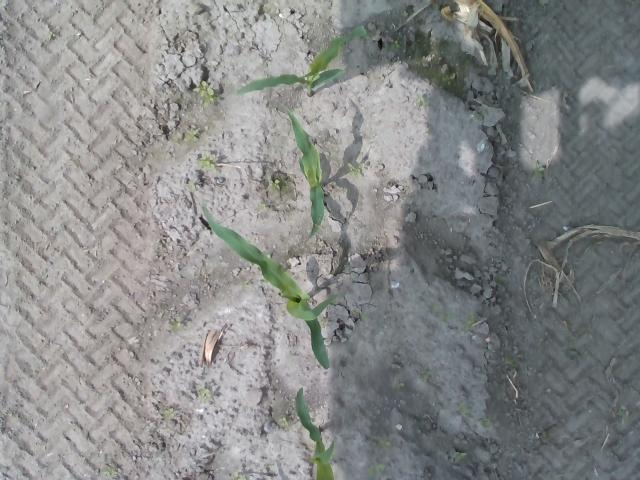Maize: (198, 203, 338, 371), (235, 25, 367, 99), (288, 109, 325, 242), (294, 387, 334, 480)
Weeds: (194, 80, 214, 99), (198, 158, 218, 172), (346, 162, 362, 176), (390, 379, 406, 392), (616, 405, 629, 419), (184, 129, 198, 141), (440, 74, 456, 84), (105, 464, 118, 476), (198, 388, 210, 400), (459, 403, 470, 416), (370, 464, 385, 473), (269, 180, 281, 191), (170, 319, 182, 330), (378, 439, 392, 448), (164, 407, 175, 418), (415, 96, 425, 108), (503, 357, 516, 366), (418, 371, 430, 380), (390, 38, 400, 48), (465, 320, 475, 330), (455, 450, 465, 460), (534, 166, 544, 176), (358, 312, 368, 322), (278, 418, 288, 426)
